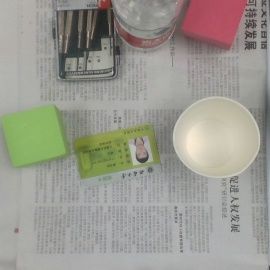bottle: (110, 1, 179, 48)
card: (72, 123, 162, 189)
cup: (171, 95, 262, 179)
